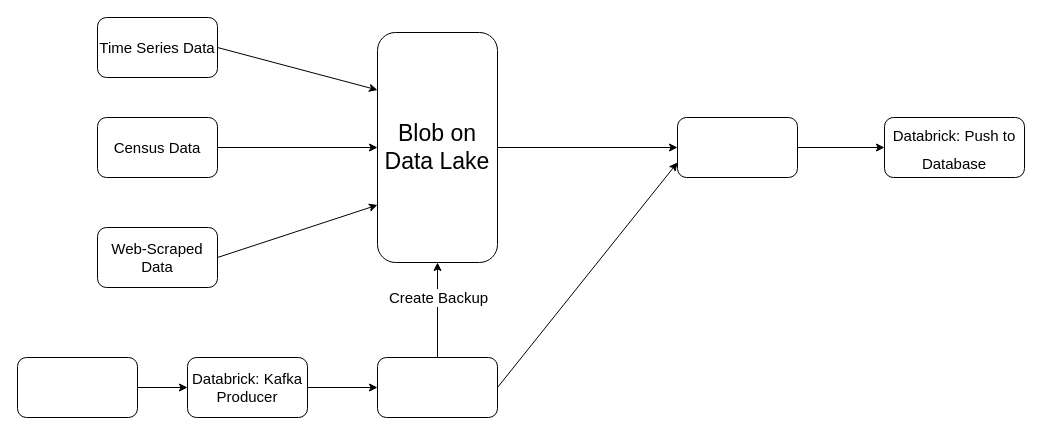
The diagram is 1042 pixels wide and 435 high, and some of its shapes have lost their labels. The shapes that lost their labels are listed below. From the top down, each one's centre as x and y in pixels, then its label:
point 737,147: Cleaning
point 77,387: DJUSAU Index Stream
point 437,387: Databrick: Kafka Consumer
